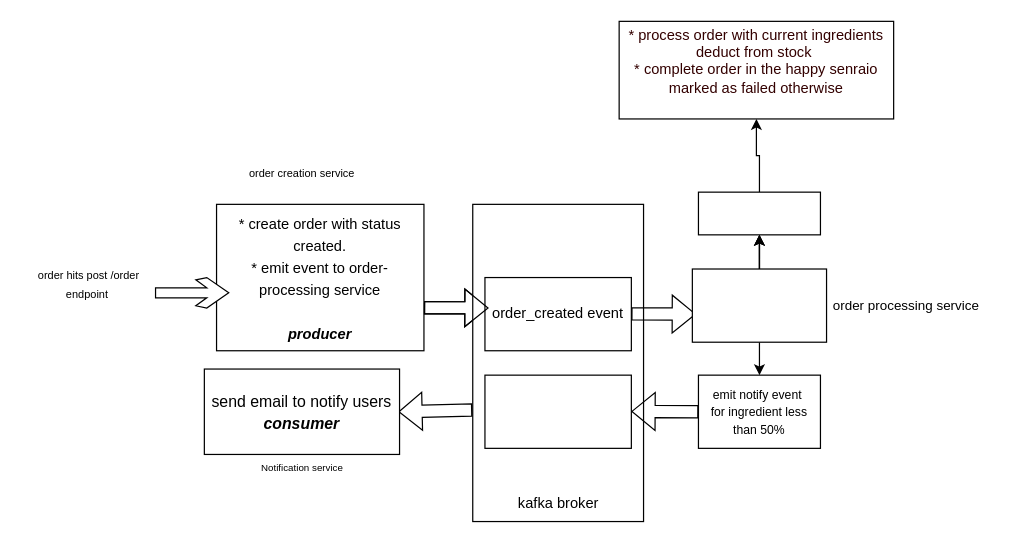
Some shapes in this 1011 by 543 pixel diagram are drawn without their labels. Here are the shapes that lost their labels. From the top down, the centre of each, then its label:
(x=758, y=213): listening to order created events
(x=759, y=305): consumer producer
(x=557, y=411): Notify even
